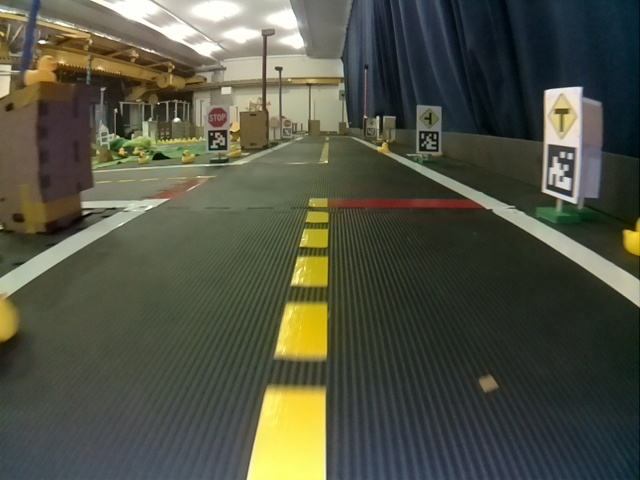Duckie: (230, 145, 241, 157), (377, 142, 389, 152), (182, 151, 194, 160), (137, 152, 147, 162)
Intersection sign: (546, 92, 579, 139), (418, 106, 440, 129)
QR code: (543, 144, 579, 200), (418, 131, 439, 153), (207, 130, 228, 151)
Stop sign: (206, 107, 227, 127)
